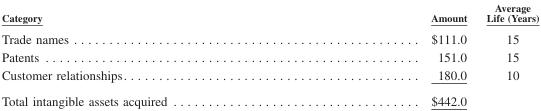table: (0, 0, 538, 107)
table column: (0, 0, 298, 107), (298, 0, 476, 107), (476, 0, 538, 107)
table column header: (0, 0, 538, 27)
table row: (0, 0, 538, 27), (0, 65, 538, 87), (0, 27, 538, 47), (0, 87, 538, 107), (0, 47, 538, 65)
